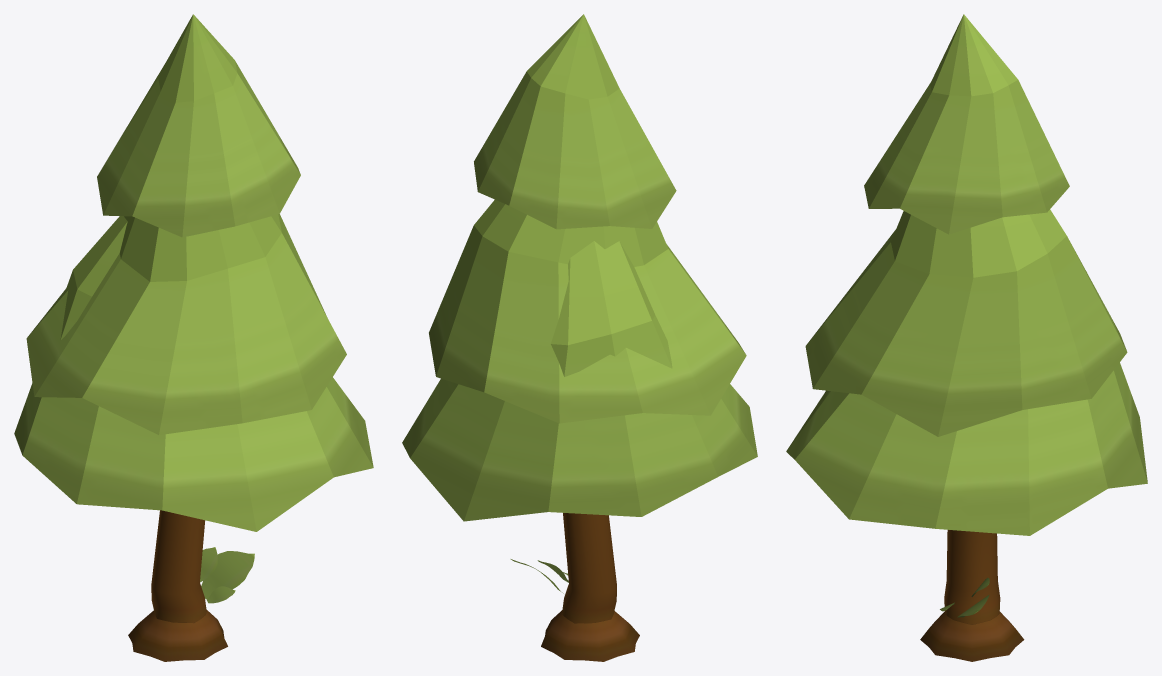
The model's file is Arvore2.glb.
The picture shows the model from 3 angles, left to right: view 1: azimuth 30°, elevation 25°; view 2: azimuth 150°, elevation 25°; view 3: azimuth 270°, elevation 25°; orthographic projection.
Parts seen in each view (by area): view 1: Arvore2; view 2: Arvore2; view 3: Arvore2.
Part boxes in pixels (left/top/right/bottom): Arvore2: left=14, top=14, right=373, bottom=661; Arvore2: left=402, top=14, right=757, bottom=661; Arvore2: left=786, top=14, right=1147, bottom=661.
Bounding box in the file's own units: 4.6 × 8.87 × 4.61.
Materials: 1 (1 with a texture image).
